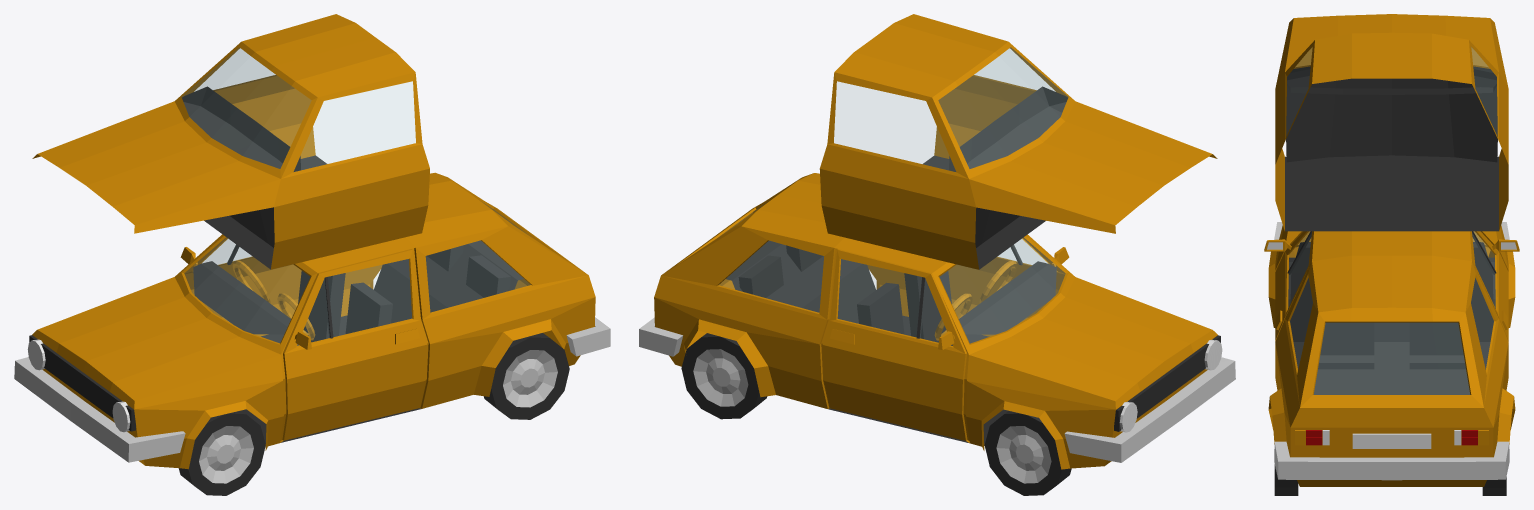
Rendered from car_v2.fbx.
3 renders of one model, left to right at view 1: azimuth 30°, elevation 25°; view 2: azimuth 150°, elevation 25°; view 3: azimuth 270°, elevation 25°, orthographic.
Visible parts, largest first — view 1: vw, cockpit, Circle.001, Circle; view 2: vw, cockpit, Circle.003, Wheel; view 3: vw, cockpit, Circle.001, Circle.003.
Boxes of the visible parts, x1,y1,x2,y2 form: vw: (14, 172, 610, 469); cockpit: (32, 14, 429, 269); Circle.001: (484, 333, 569, 419); Circle: (178, 410, 265, 495); vw: (639, 173, 1235, 469); cockpit: (819, 14, 1217, 269); Circle.003: (681, 333, 767, 419); Wheel: (984, 411, 1071, 495); vw: (1264, 222, 1519, 486); cockpit: (1275, 14, 1508, 231); Circle.001: (1274, 464, 1298, 495); Circle.003: (1482, 477, 1506, 495).
Size of the model in its own units: 632 by 456 by 286.
